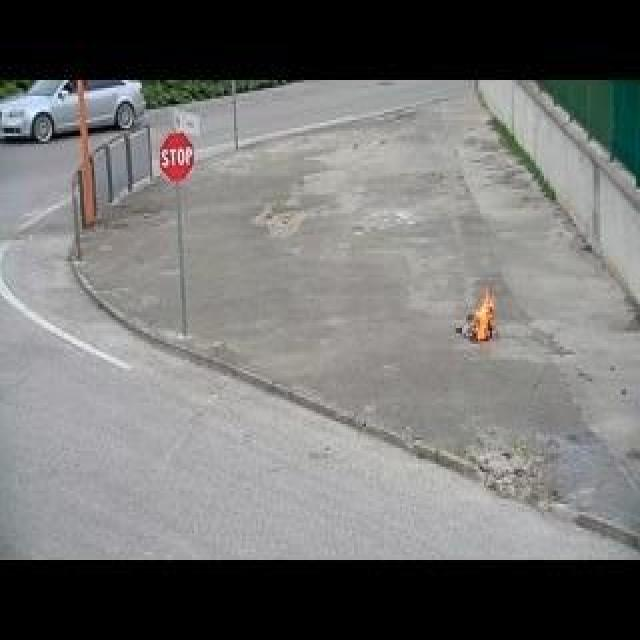Fire: (473, 293, 497, 344)
